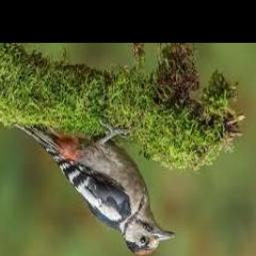Woodpecker: (16, 123, 175, 256)
